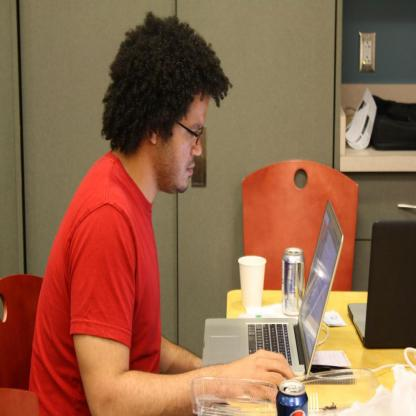board: (204, 202, 344, 381), (349, 221, 416, 350), (282, 248, 304, 315), (278, 380, 307, 416)
